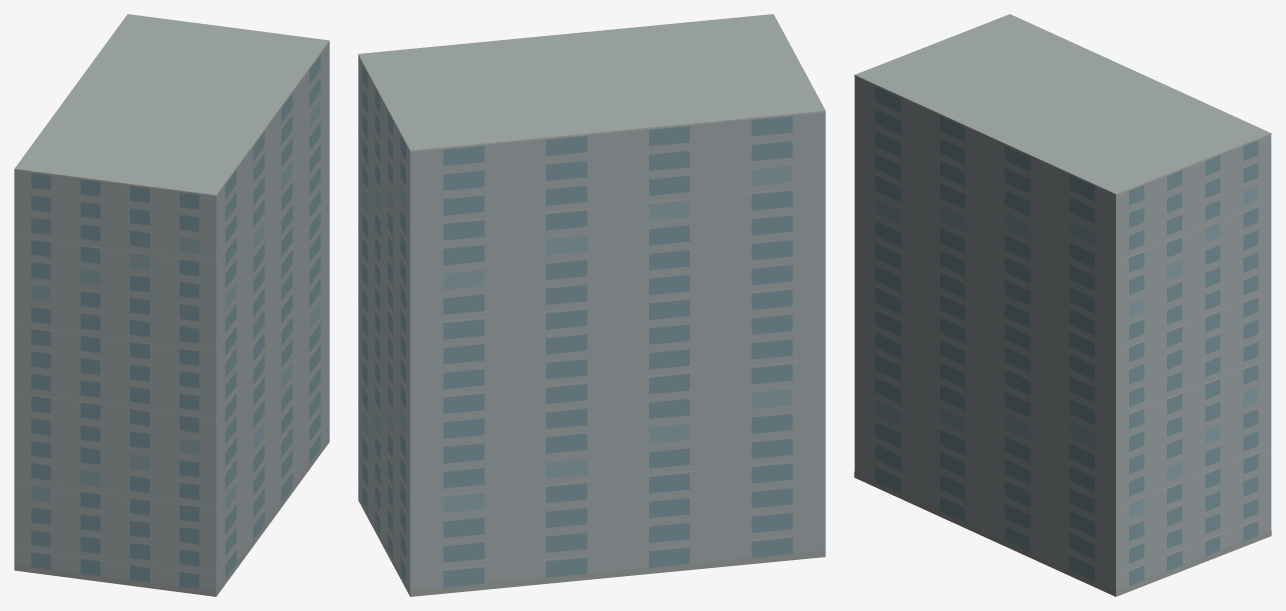
The model's file is residential-e59cd967-1c25-456d-adff-d72e058d1489.glb.
The picture shows the model from 3 angles, left to right: view 1: azimuth 30°, elevation 25°; view 2: azimuth 150°, elevation 25°; view 3: azimuth 270°, elevation 25°; orthographic projection. The views are drawn at different scales.
Parts seen in each view (by area): view 1: residential-e59cd967-1c25-456d-adff-d72e058d1489.tmp; view 2: residential-e59cd967-1c25-456d-adff-d72e058d1489.tmp; view 3: residential-e59cd967-1c25-456d-adff-d72e058d1489.tmp.
Part boxes in pixels (box(x1,y1,x2,y2)): residential-e59cd967-1c25-456d-adff-d72e058d1489.tmp: box(14, 14, 329, 596); residential-e59cd967-1c25-456d-adff-d72e058d1489.tmp: box(358, 14, 825, 596); residential-e59cd967-1c25-456d-adff-d72e058d1489.tmp: box(854, 14, 1271, 596).
Bounding box in the file's own units: 69.06 × 72 × 67.56.
